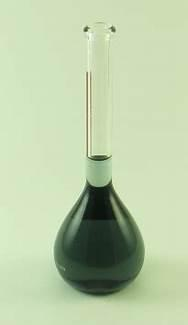Volumetric flask: (48, 15, 147, 294)
